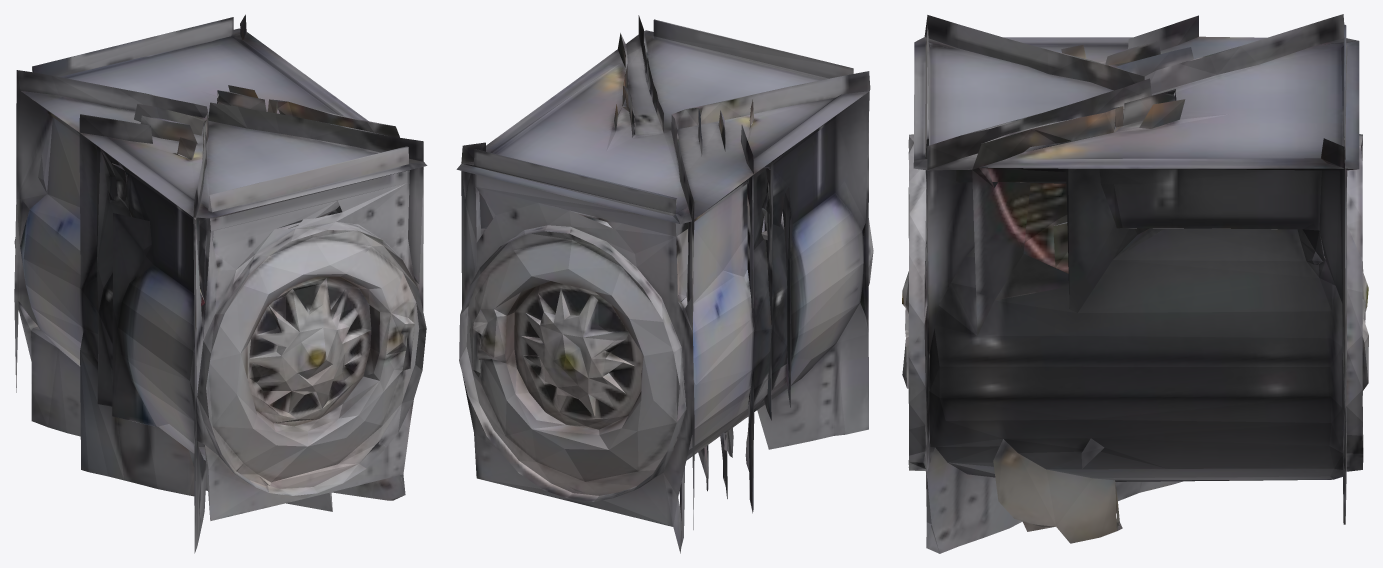
The model's file is vault_door.glb.
3 views of the same model, side by side, from view 1: azimuth 30°, elevation 25°; view 2: azimuth 150°, elevation 25°; view 3: azimuth 270°, elevation 25° (orthographic). The views are drawn at different scales.
Visible parts, largest first — view 1: textured_mesh.obj; view 2: textured_mesh.obj; view 3: textured_mesh.obj.
Boxes of the visible parts, x1,y1,x2,y2 form: textured_mesh.obj: (14, 14, 427, 553); textured_mesh.obj: (456, 15, 873, 553); textured_mesh.obj: (902, 14, 1368, 553).
Size of the model in its own units: 1.91 by 2.8 by 2.79.
1 material, 1 textured.
